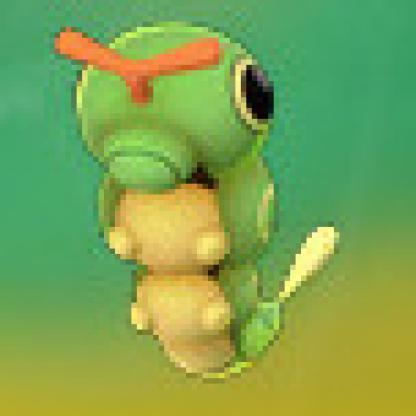Caterpie: (52, 16, 350, 385)
